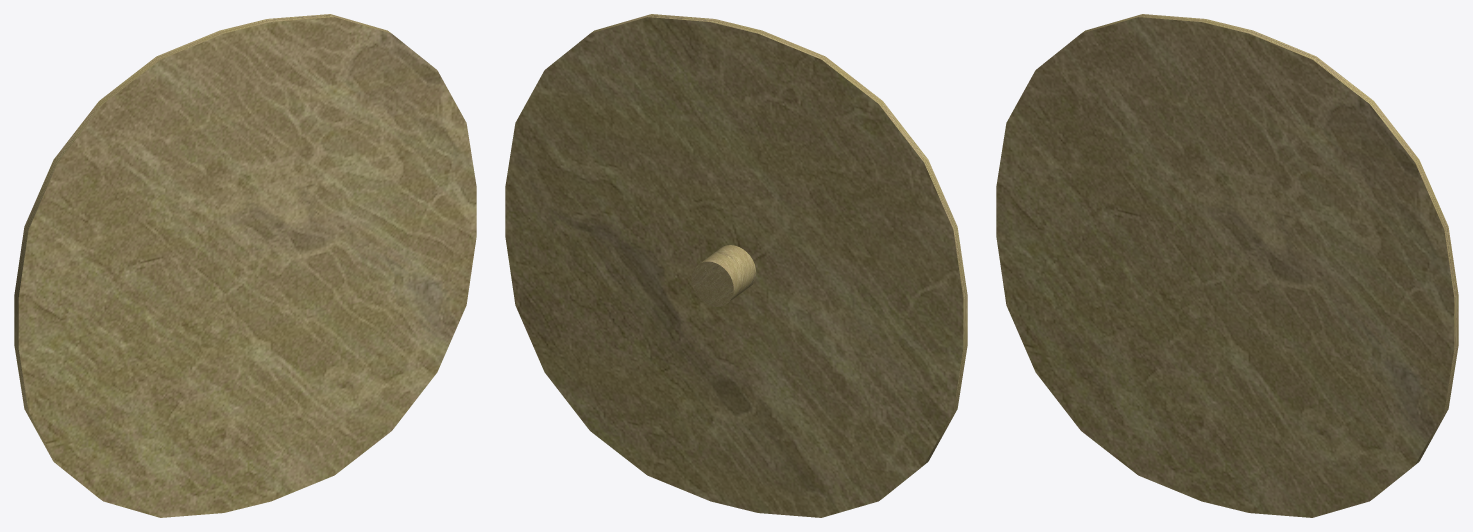
The model's file is seesaw.fbx.
3 views of the same model, side by side, from view 1: azimuth 30°, elevation 25°; view 2: azimuth 150°, elevation 25°; view 3: azimuth 330°, elevation 25° (orthographic).
Parts seen in each view (by area): view 1: seesaw; view 2: seesaw; view 3: seesaw.
Part boxes in pixels (bbox=[...]): seesaw: bbox=[14, 14, 476, 517]; seesaw: bbox=[505, 14, 967, 517]; seesaw: bbox=[996, 14, 1458, 517].
Bounding box in the file's own units: 21.66 × 21.66 × 2.19.
